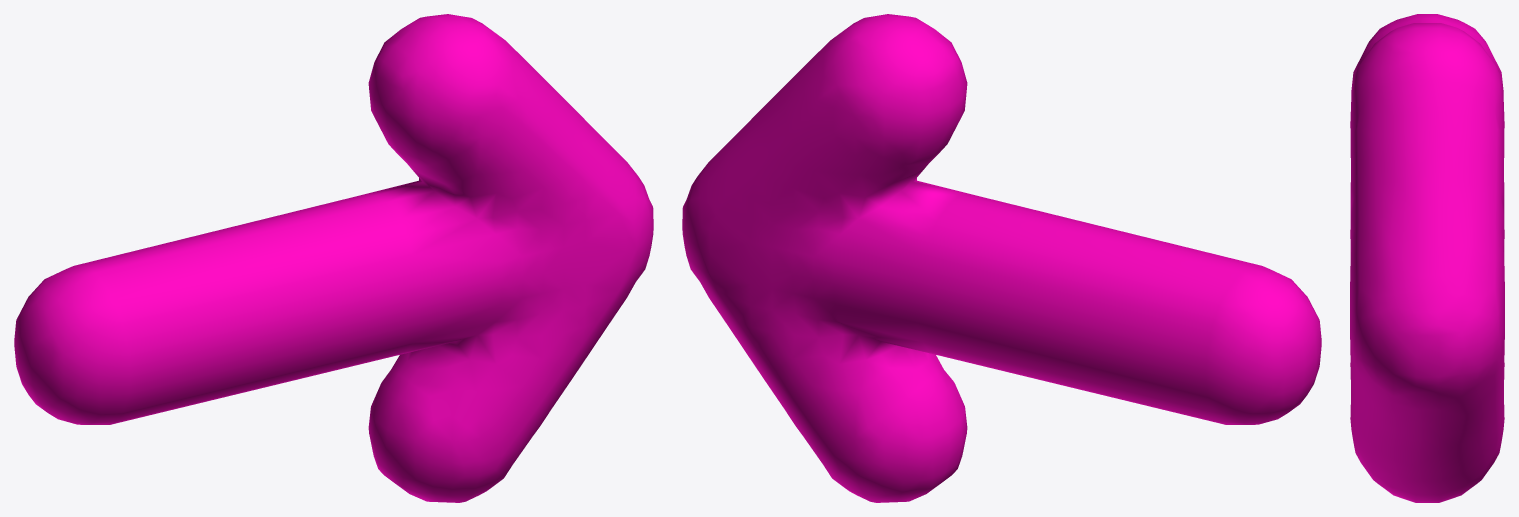
3 views of the same model, side by side, from view 1: azimuth 30°, elevation 25°; view 2: azimuth 150°, elevation 25°; view 3: azimuth 270°, elevation 25° (orthographic).
Visible parts, largest first — view 1: arrow; view 2: arrow; view 3: arrow.
Part boxes in pixels (x1=…): arrow: x1=14, y1=14, x2=653, y2=502; arrow: x1=682, y1=14, x2=1321, y2=502; arrow: x1=1350, y1=14, x2=1504, y2=502.
Size of the model in its own units: 0.0305 by 0.0224 by 0.00674.
